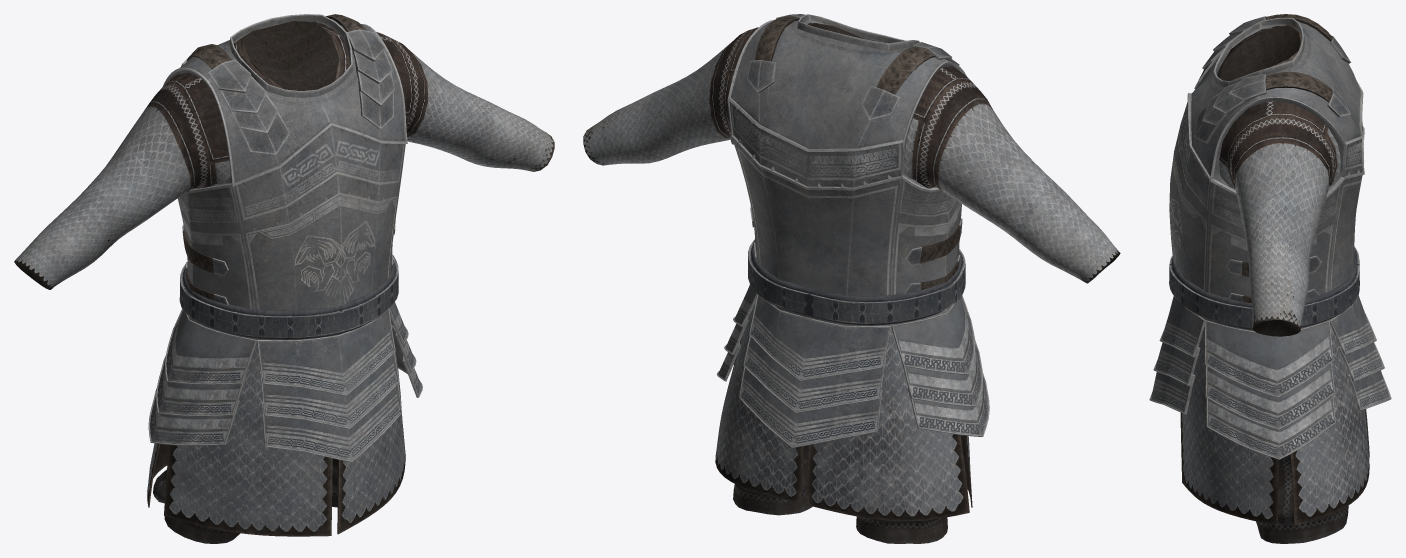
File: sk_dwarf_erebor_chest_plate_elite_a.fbx
3 views of the same model, side by side, from view 1: azimuth 30°, elevation 25°; view 2: azimuth 150°, elevation 25°; view 3: azimuth 270°, elevation 25° (orthographic). The views are drawn at different scales.
Visible parts, largest first — view 1: sk_dwarf_erebor_chest_plate_elite_a.2, sk_dwarf_erebor_chest_plate_elite_a.3, sk_dwarf_erebor_chest_plate_elite_a.1, sk_dwarf_erebor_chest_plate_elite_a.0; view 2: sk_dwarf_erebor_chest_plate_elite_a.2, sk_dwarf_erebor_chest_plate_elite_a.3, sk_dwarf_erebor_chest_plate_elite_a.1, sk_dwarf_erebor_chest_plate_elite_a.0; view 3: sk_dwarf_erebor_chest_plate_elite_a.2, sk_dwarf_erebor_chest_plate_elite_a.3, sk_dwarf_erebor_chest_plate_elite_a.1, sk_dwarf_erebor_chest_plate_elite_a.0.
Part boxes in pixels (bbox=[...]): sk_dwarf_erebor_chest_plate_elite_a.2: bbox=[148, 14, 422, 462]; sk_dwarf_erebor_chest_plate_elite_a.3: bbox=[14, 21, 554, 536]; sk_dwarf_erebor_chest_plate_elite_a.1: bbox=[181, 14, 395, 304]; sk_dwarf_erebor_chest_plate_elite_a.0: bbox=[153, 458, 337, 543]; sk_dwarf_erebor_chest_plate_elite_a.2: bbox=[717, 14, 989, 447]; sk_dwarf_erebor_chest_plate_elite_a.3: bbox=[583, 23, 1120, 520]; sk_dwarf_erebor_chest_plate_elite_a.1: bbox=[747, 14, 962, 293]; sk_dwarf_erebor_chest_plate_elite_a.0: bbox=[733, 435, 962, 543]; sk_dwarf_erebor_chest_plate_elite_a.2: bbox=[1149, 18, 1391, 459]; sk_dwarf_erebor_chest_plate_elite_a.3: bbox=[1180, 25, 1369, 525]; sk_dwarf_erebor_chest_plate_elite_a.1: bbox=[1194, 14, 1350, 302]; sk_dwarf_erebor_chest_plate_elite_a.0: bbox=[1256, 454, 1348, 543].
Size of the model in its own units: 1.16 by 0.4861 by 1.03.
Materials: 4 (4 with a texture image).
